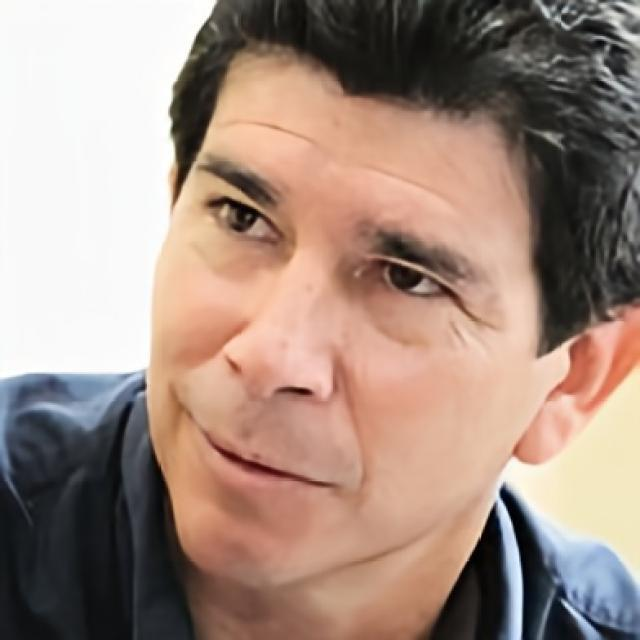content: (145, 35, 547, 590)
